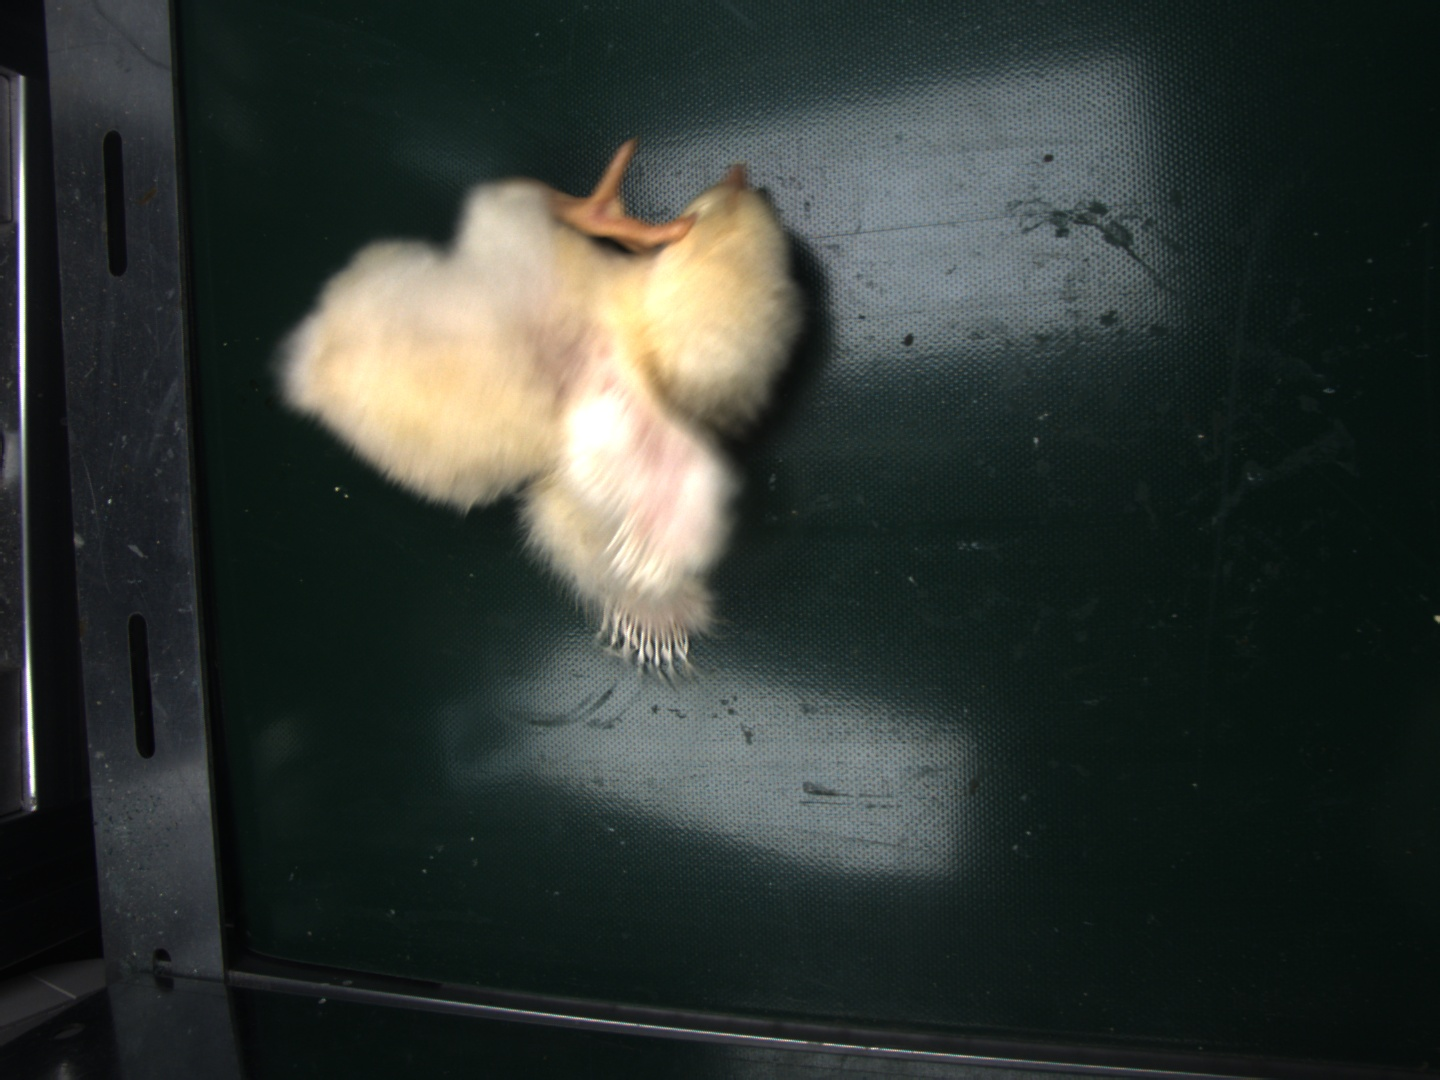male: (592, 597, 697, 670)
